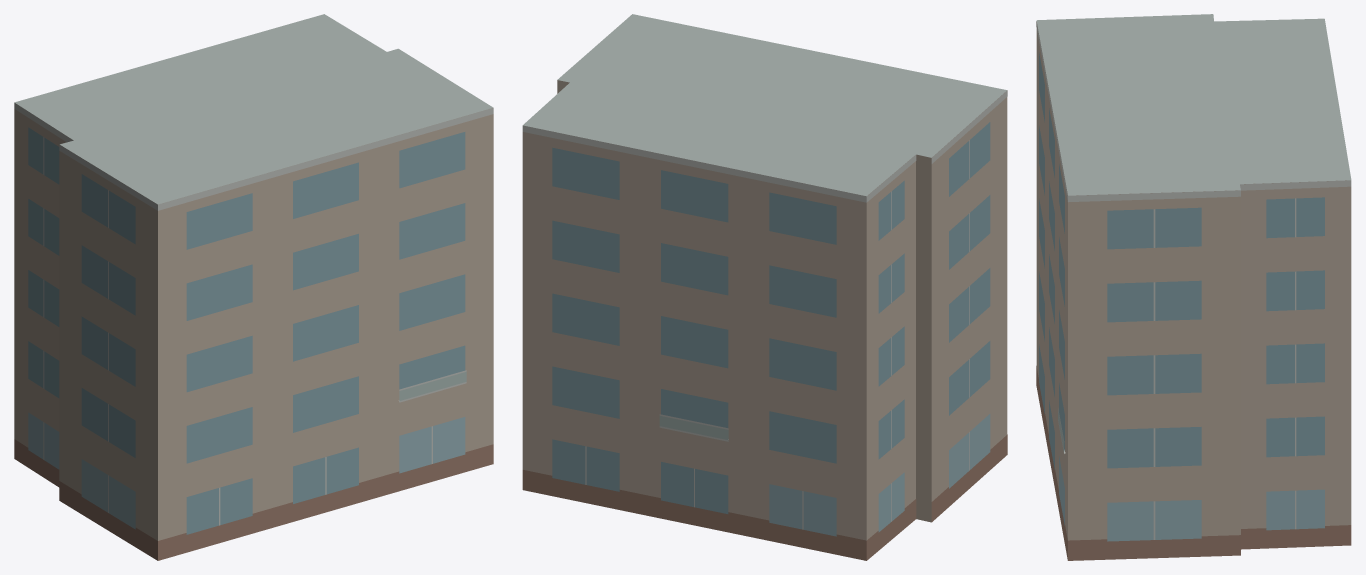
Rendered from survey-upis-32910435.glb.
3 views of the same model, side by side, from view 1: azimuth 30°, elevation 25°; view 2: azimuth 150°, elevation 25°; view 3: azimuth 270°, elevation 25° (orthographic). The views are drawn at different scales.
Parts seen in each view (by area): view 1: survey-upis-32910435.tmp; view 2: survey-upis-32910435.tmp; view 3: survey-upis-32910435.tmp.
Boxes of the visible parts, x1,y1,x2,y2 form: survey-upis-32910435.tmp: (14, 14, 493, 560); survey-upis-32910435.tmp: (522, 14, 1007, 560); survey-upis-32910435.tmp: (1036, 14, 1351, 560).
Bounding box in the file's own units: 14.74 × 13.8 × 10.8.
